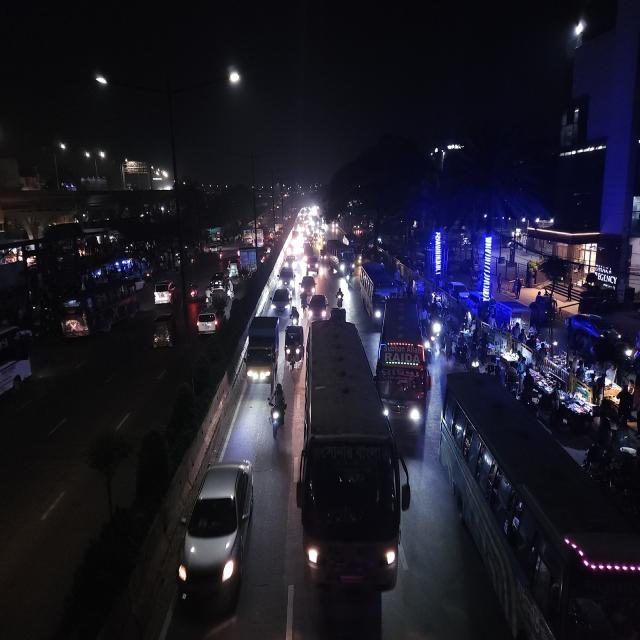bus: (442, 373, 639, 639), (294, 316, 406, 600), (375, 296, 431, 436), (60, 272, 140, 343), (359, 260, 397, 326), (331, 241, 355, 280)
car: (179, 455, 257, 610), (195, 304, 221, 340), (153, 275, 177, 308), (270, 285, 292, 315), (308, 292, 328, 322), (299, 273, 317, 304), (278, 265, 296, 287), (304, 256, 320, 276), (211, 270, 225, 290), (284, 254, 298, 268)
cng: (152, 310, 177, 356), (284, 323, 303, 372), (226, 258, 237, 278)
motorcycle: (267, 377, 287, 442), (188, 280, 200, 303), (335, 286, 345, 309)
truck: (242, 312, 280, 390), (238, 246, 264, 283)
